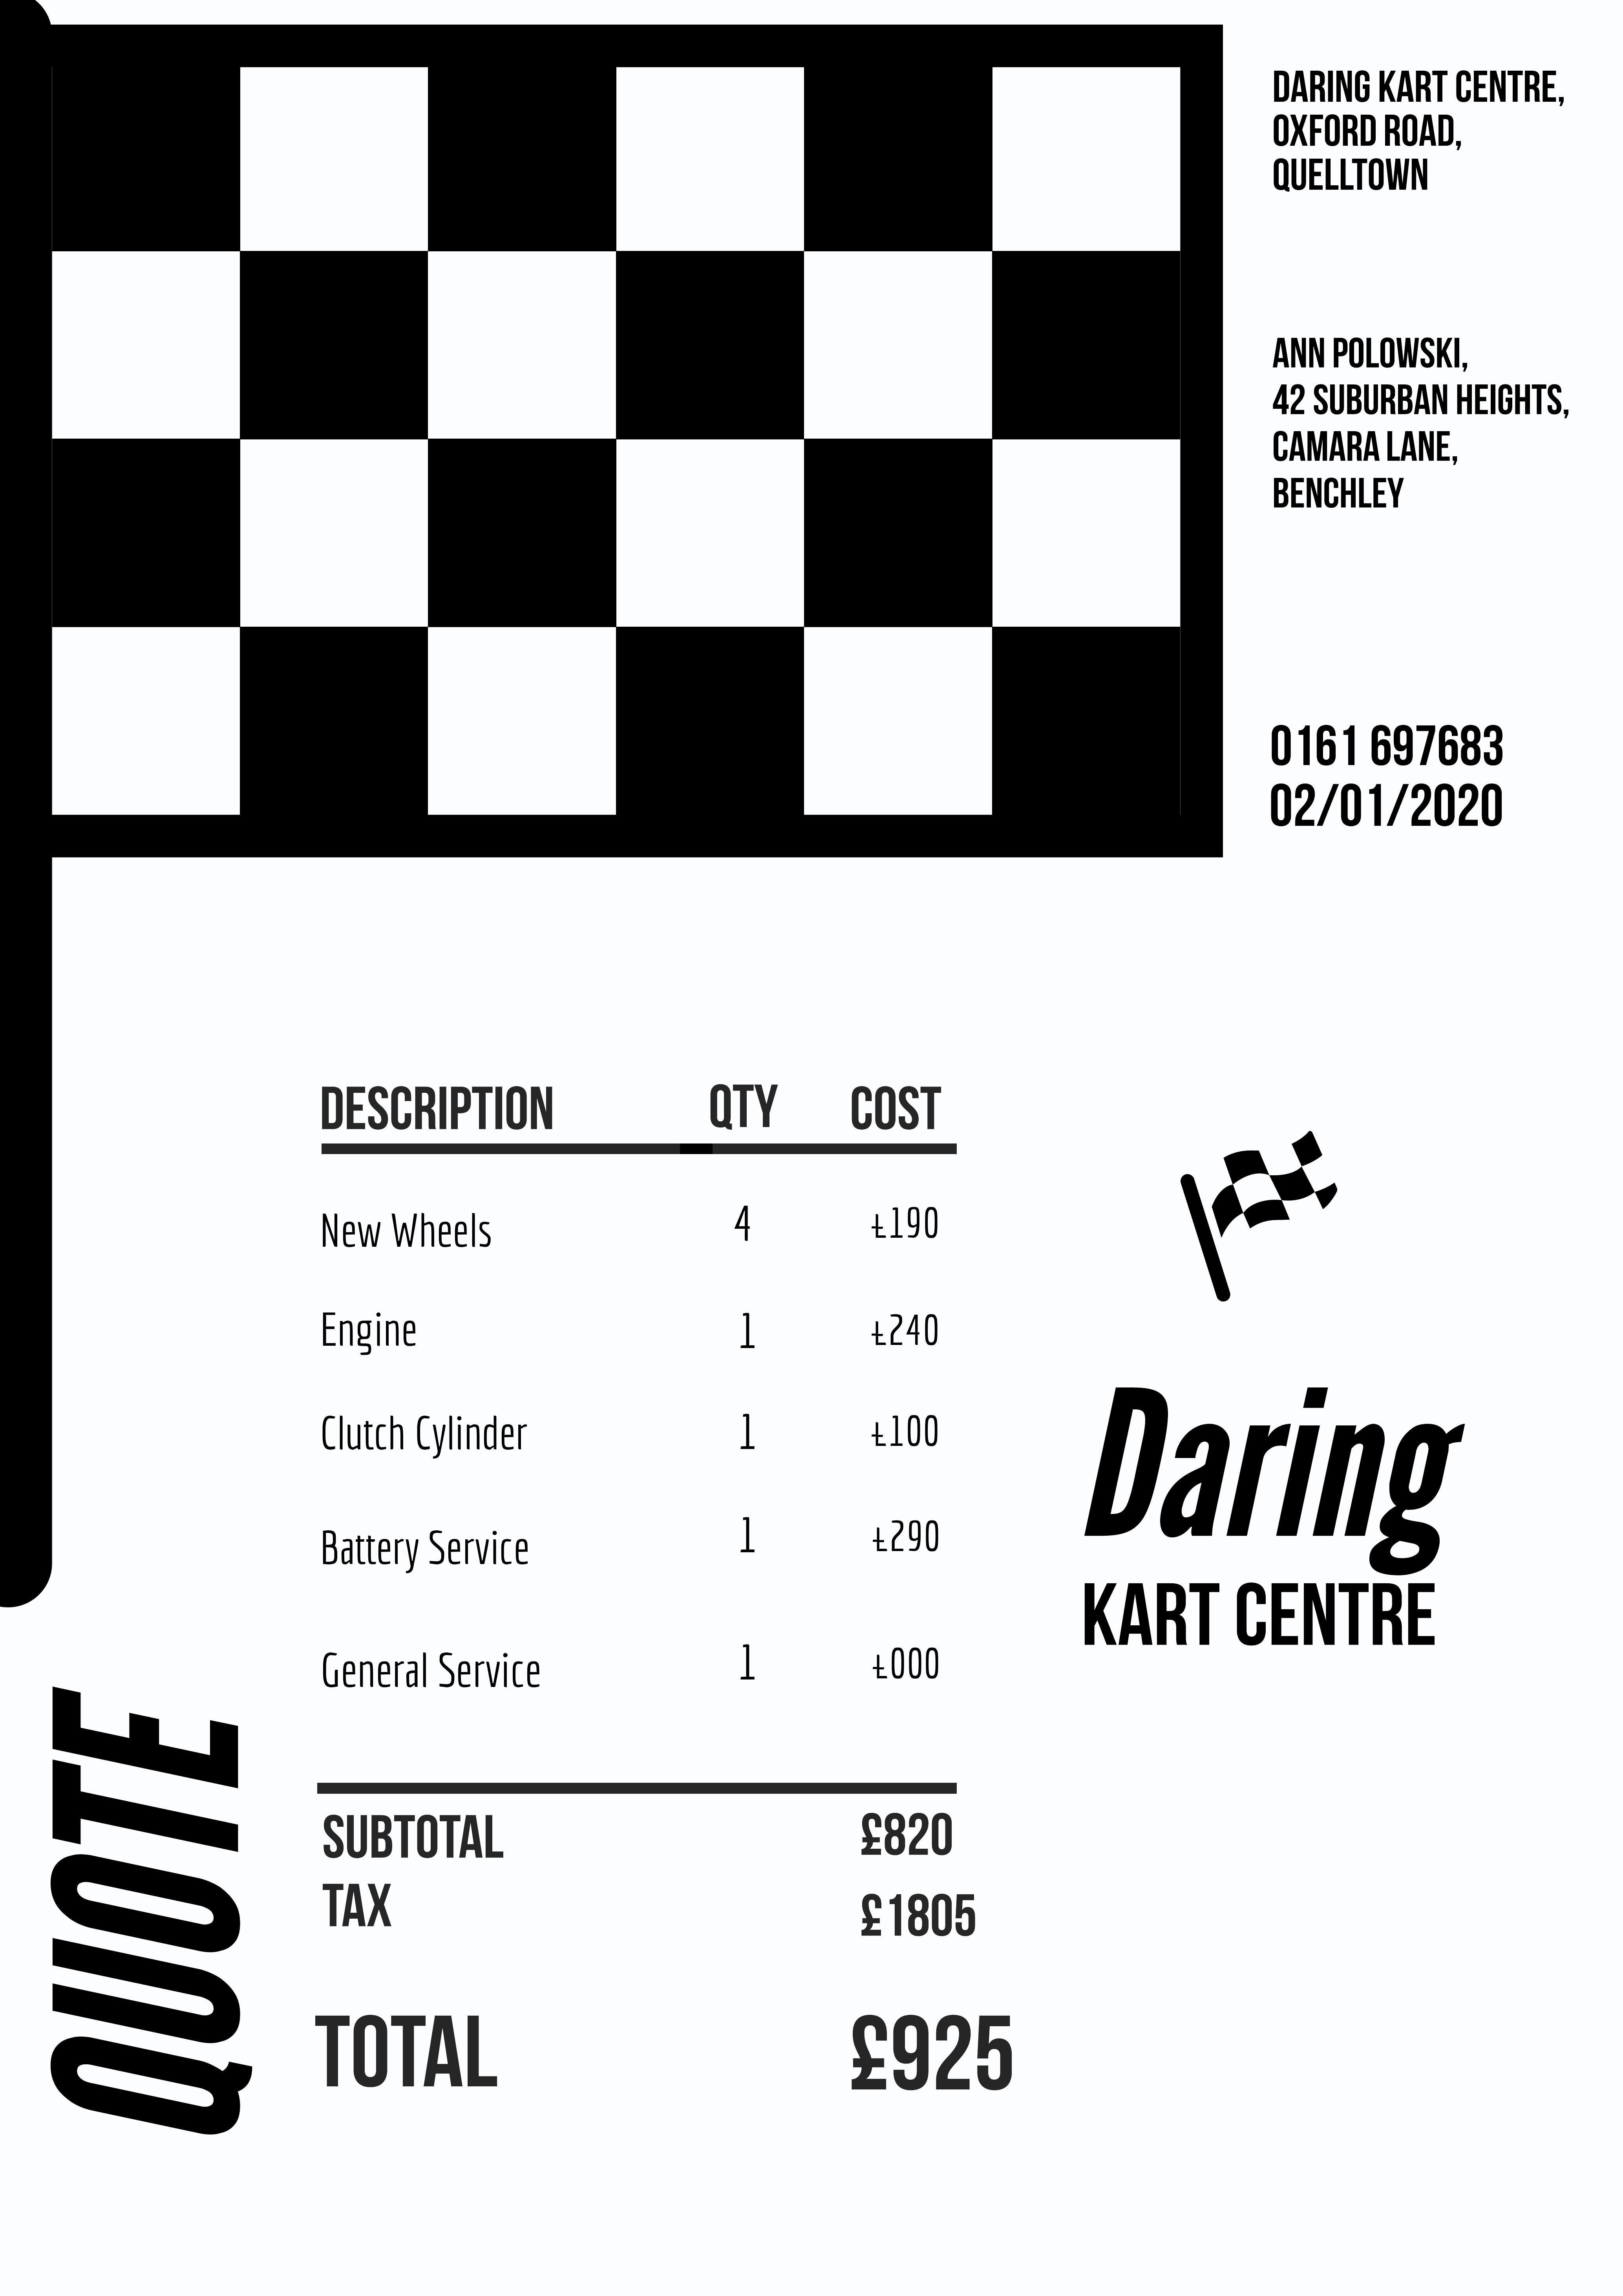ROI: (314, 1070, 954, 1702), (311, 1802, 1040, 2147), (1249, 309, 1588, 525), (1254, 56, 1586, 209), (1247, 715, 1547, 831)
